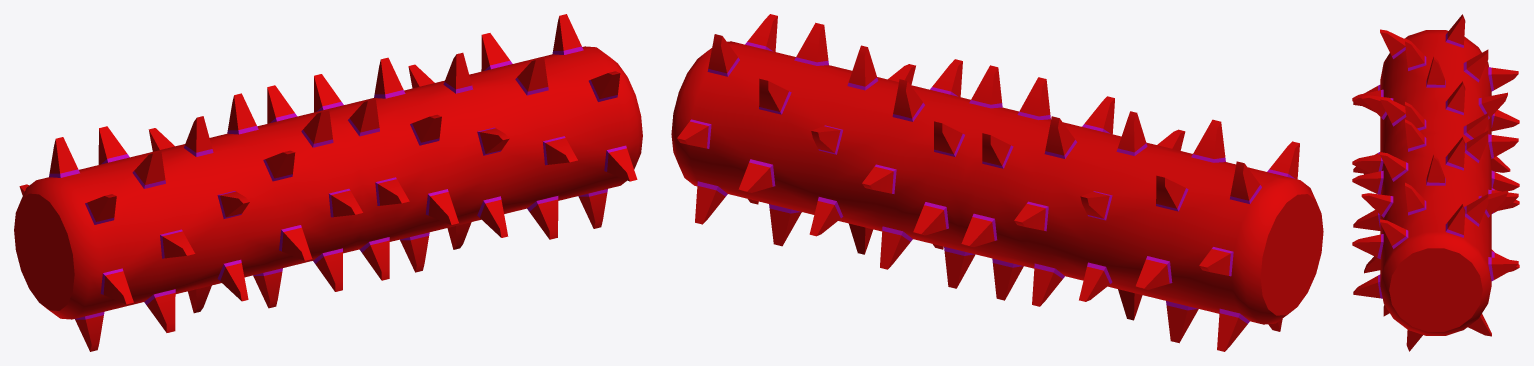
File: MeBroyeurSeul.FBX
3 renders of one model, left to right at view 1: azimuth 30°, elevation 25°; view 2: azimuth 150°, elevation 25°; view 3: azimuth 270°, elevation 25°, orthographic. The views are drawn at different scales.
Visible parts, largest first — view 1: BroyeurSeul; view 2: BroyeurSeul; view 3: BroyeurSeul.
Boxes of the visible parts, x1,y1,x2,y2 form: BroyeurSeul: (14,14,642,351); BroyeurSeul: (671,14,1323,351); BroyeurSeul: (1352,14,1519,351).
Bounding box in the file's own units: 189 × 62.91 × 62.26.
